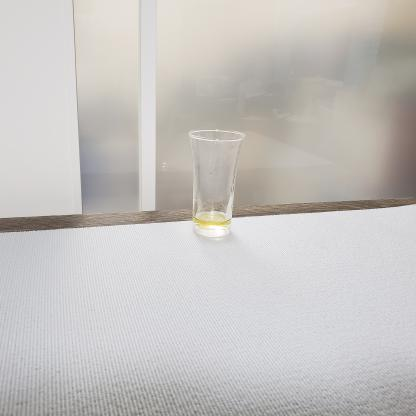glass: (184, 127, 254, 246)
